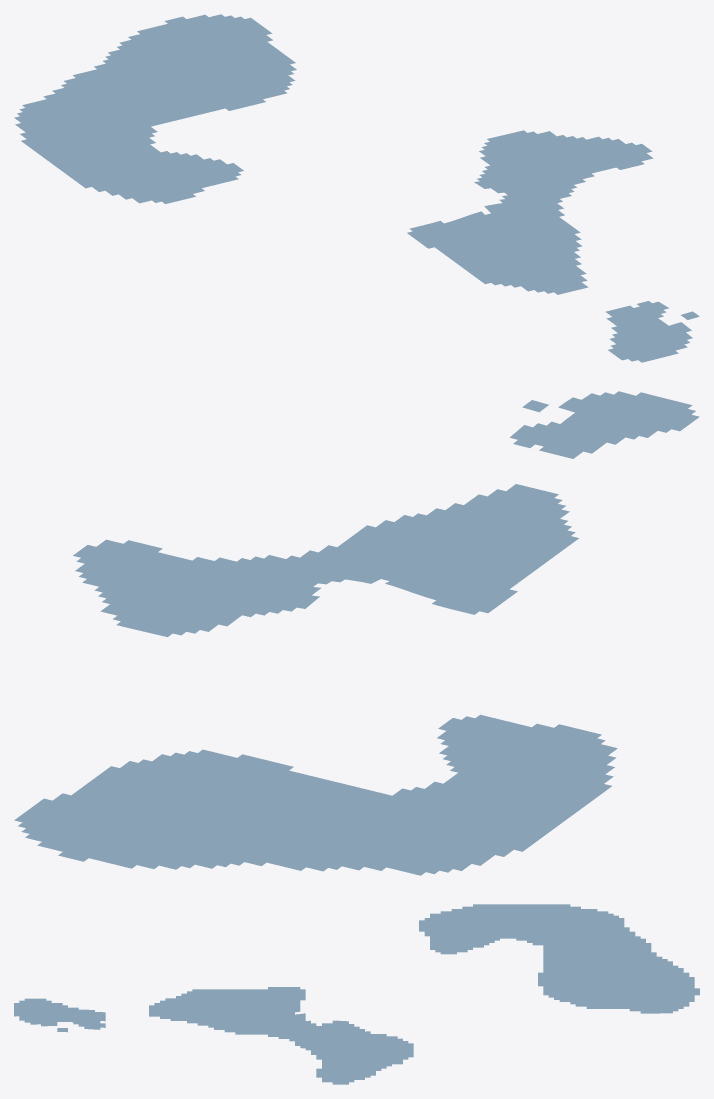
Rendered from garden.water.glb.
3 views of the same model, one above another, from view 1: azimuth 30°, elevation 25°; view 2: azimuth 150°, elevation 25°; view 3: azimuth 270°, elevation 25° (orthographic). The views are drawn at different scales.
Visible parts, largest first — view 1: water; view 2: water; view 3: water.
Part boxes in pixels (x1,y1,x2,y2): water: [14, 14, 699, 362]; water: [14, 391, 699, 875]; water: [14, 904, 699, 1084].
Bounding box in the file's own units: 18.9 × 0.3983 × 31.73.
